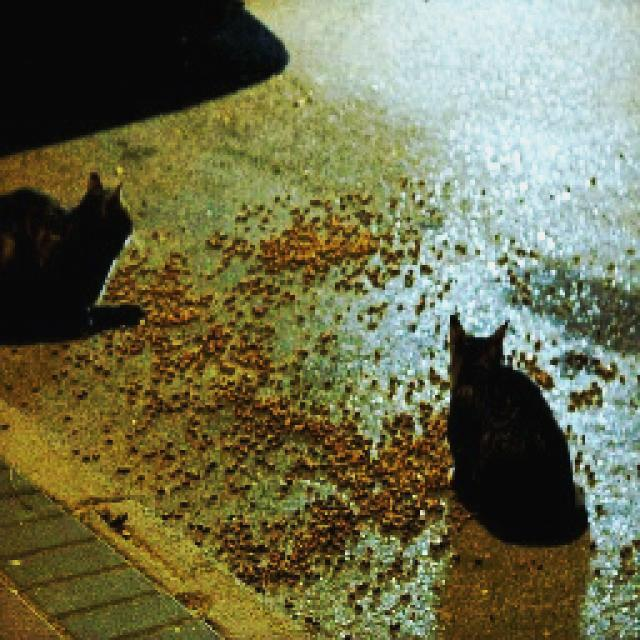cat: (423, 298, 603, 555), (0, 142, 171, 372)
